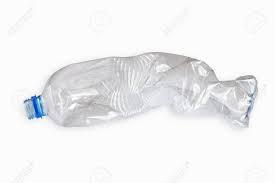plastic: (28, 51, 259, 127)
